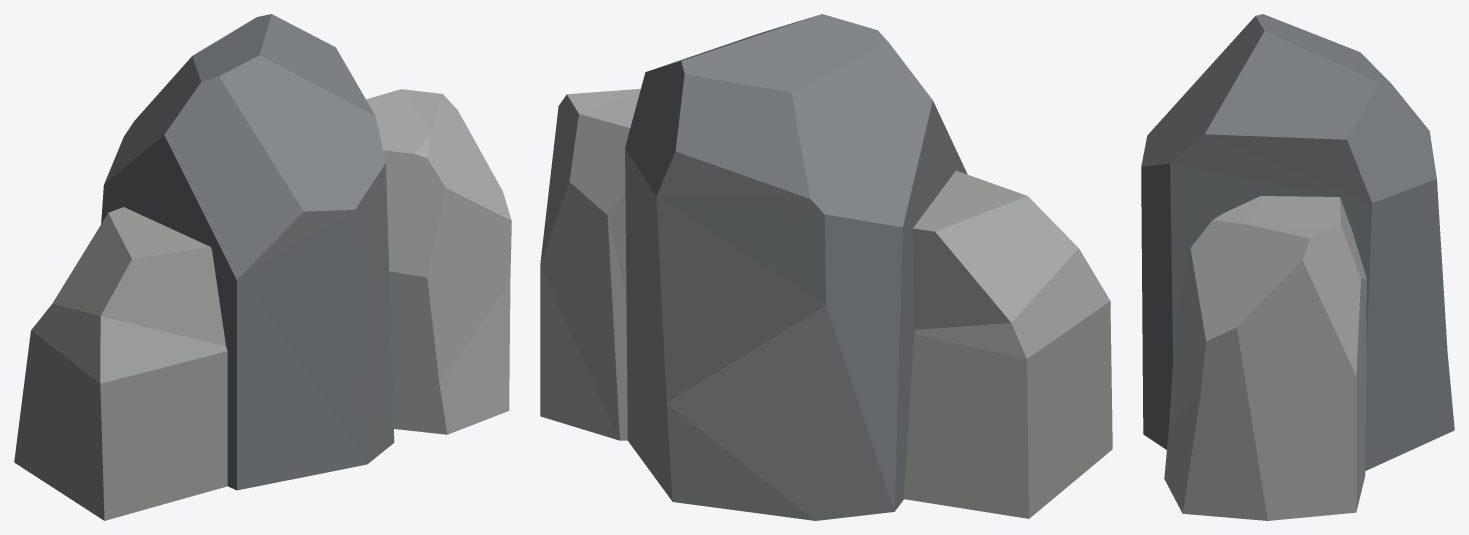
Rendered from Rock_Wall_03.fbx.
3 renders of one model, left to right at view 1: azimuth 30°, elevation 25°; view 2: azimuth 150°, elevation 25°; view 3: azimuth 270°, elevation 25°, orthographic. The views are drawn at different scales.
Parts seen in each view (by area): view 1: Rock_Wall_03; view 2: Rock_Wall_03; view 3: Rock_Wall_03.
Part boxes in pixels (bbox=[...]): Rock_Wall_03: bbox=[14, 14, 511, 520]; Rock_Wall_03: bbox=[540, 14, 1112, 520]; Rock_Wall_03: bbox=[1141, 14, 1454, 520].
Size of the model in its own units: 455 by 369 by 276.
